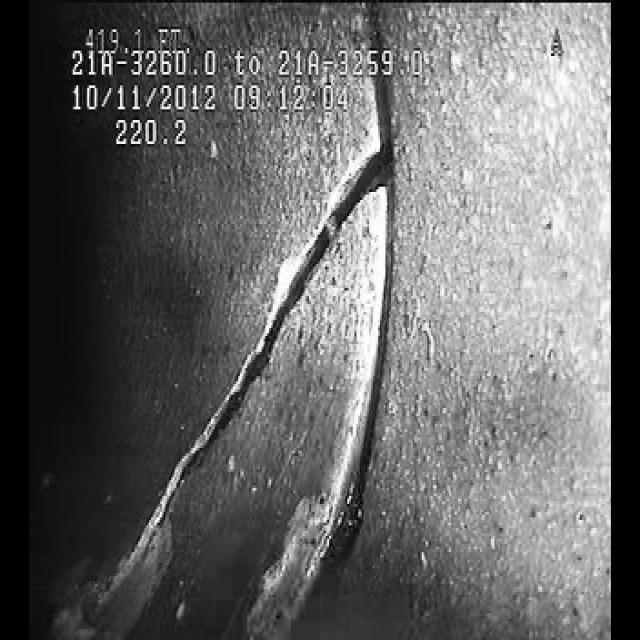Fracture: (116, 154, 396, 606)
